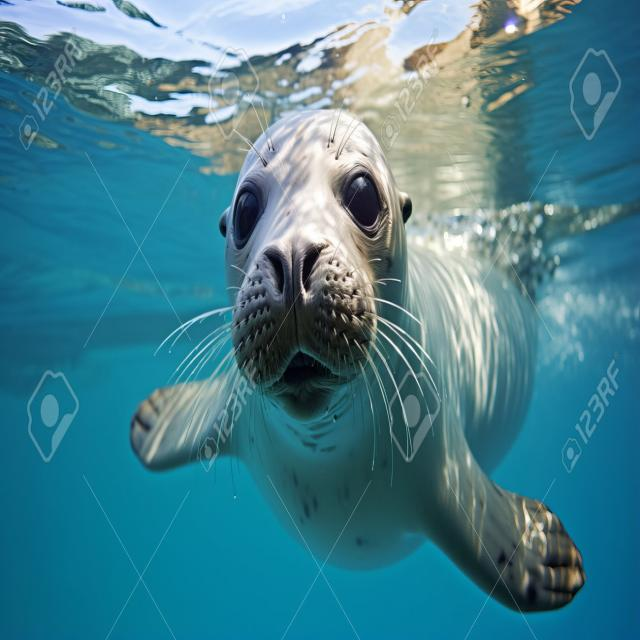WaterDog: (129, 113, 591, 625)
